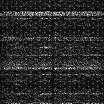lte: (1, 10, 104, 16), (1, 36, 104, 42), (1, 65, 103, 70)
